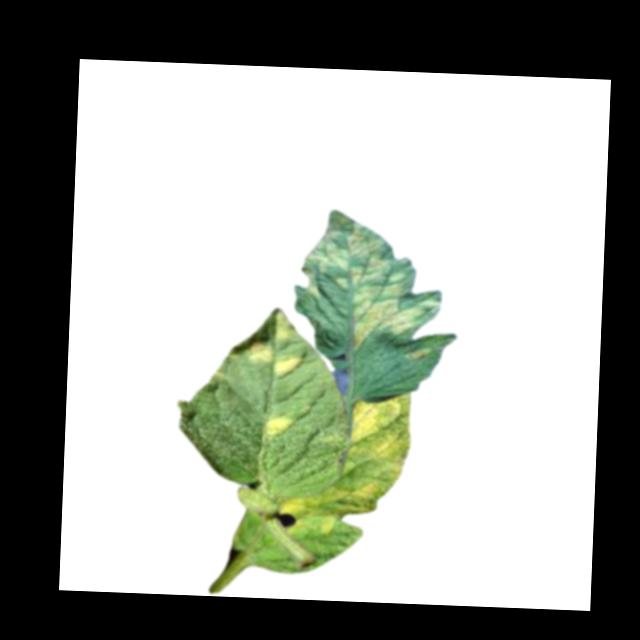Leaf_Mold: (299, 207, 444, 355), (274, 474, 396, 541), (349, 396, 415, 476), (258, 414, 295, 443), (271, 308, 298, 341), (271, 355, 302, 378), (245, 339, 275, 362)
